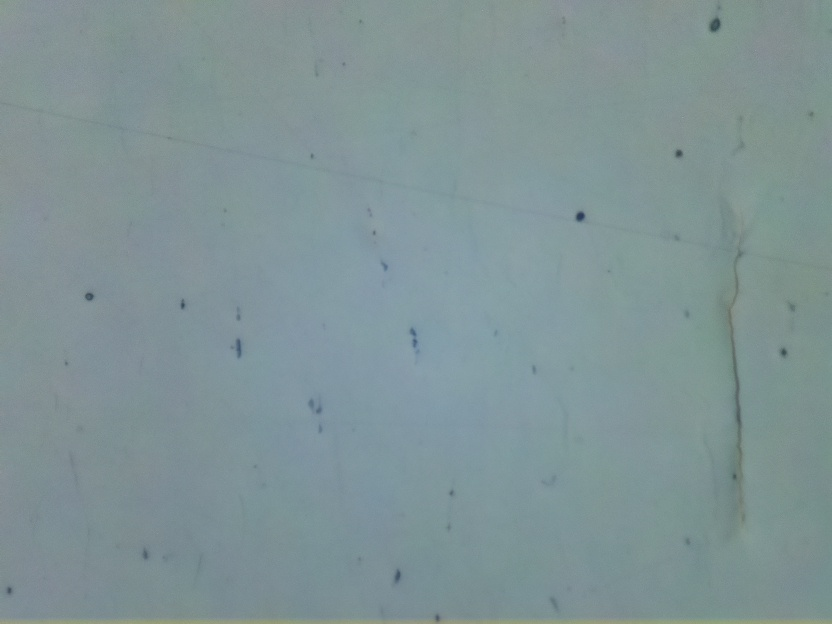crack: (712, 248, 753, 534)
